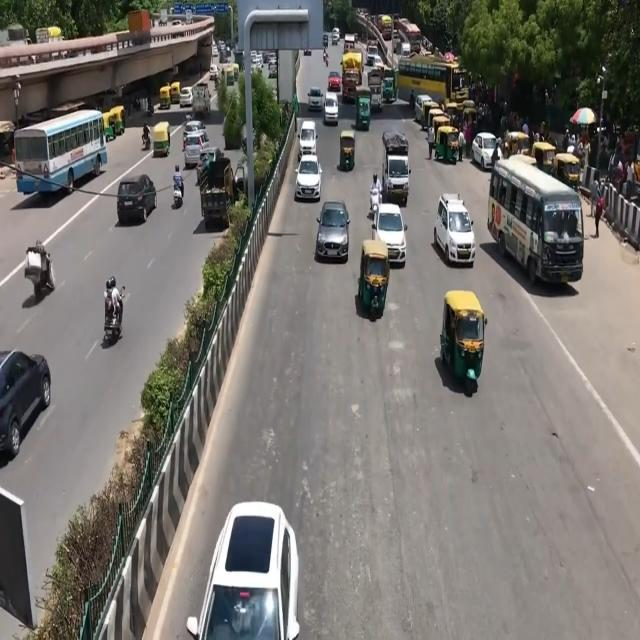Auto: (440, 286, 492, 409), (351, 236, 397, 338), (337, 129, 358, 172)
Bus: (485, 169, 593, 300), (14, 111, 114, 202)
Car: (433, 192, 478, 272), (316, 198, 352, 272), (116, 171, 160, 231), (296, 153, 322, 201)
